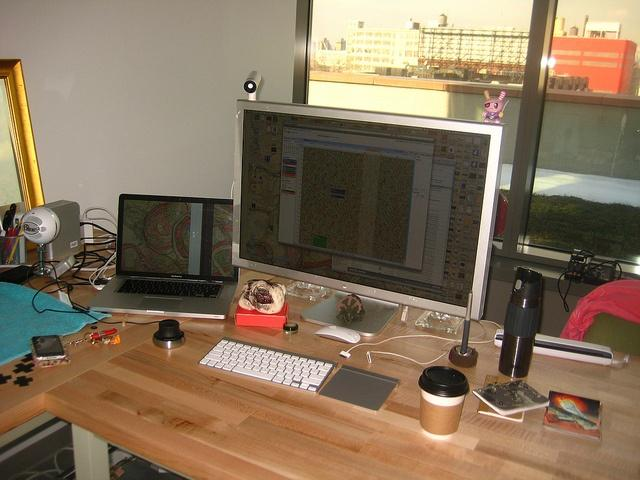AIO PC-Monitor-TV: (232, 98, 507, 338)
